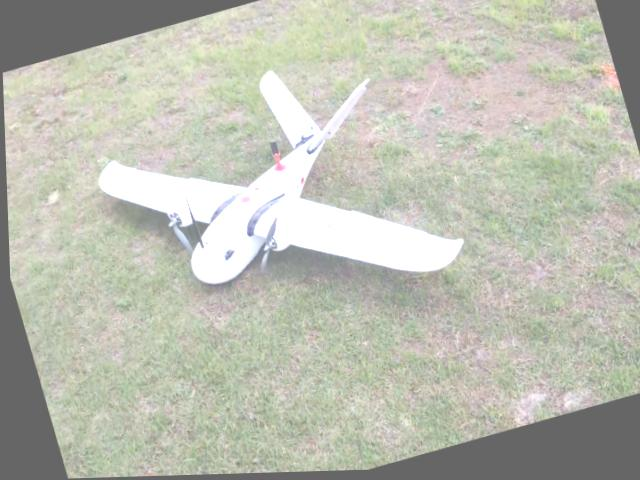plane: (78, 36, 468, 355)
